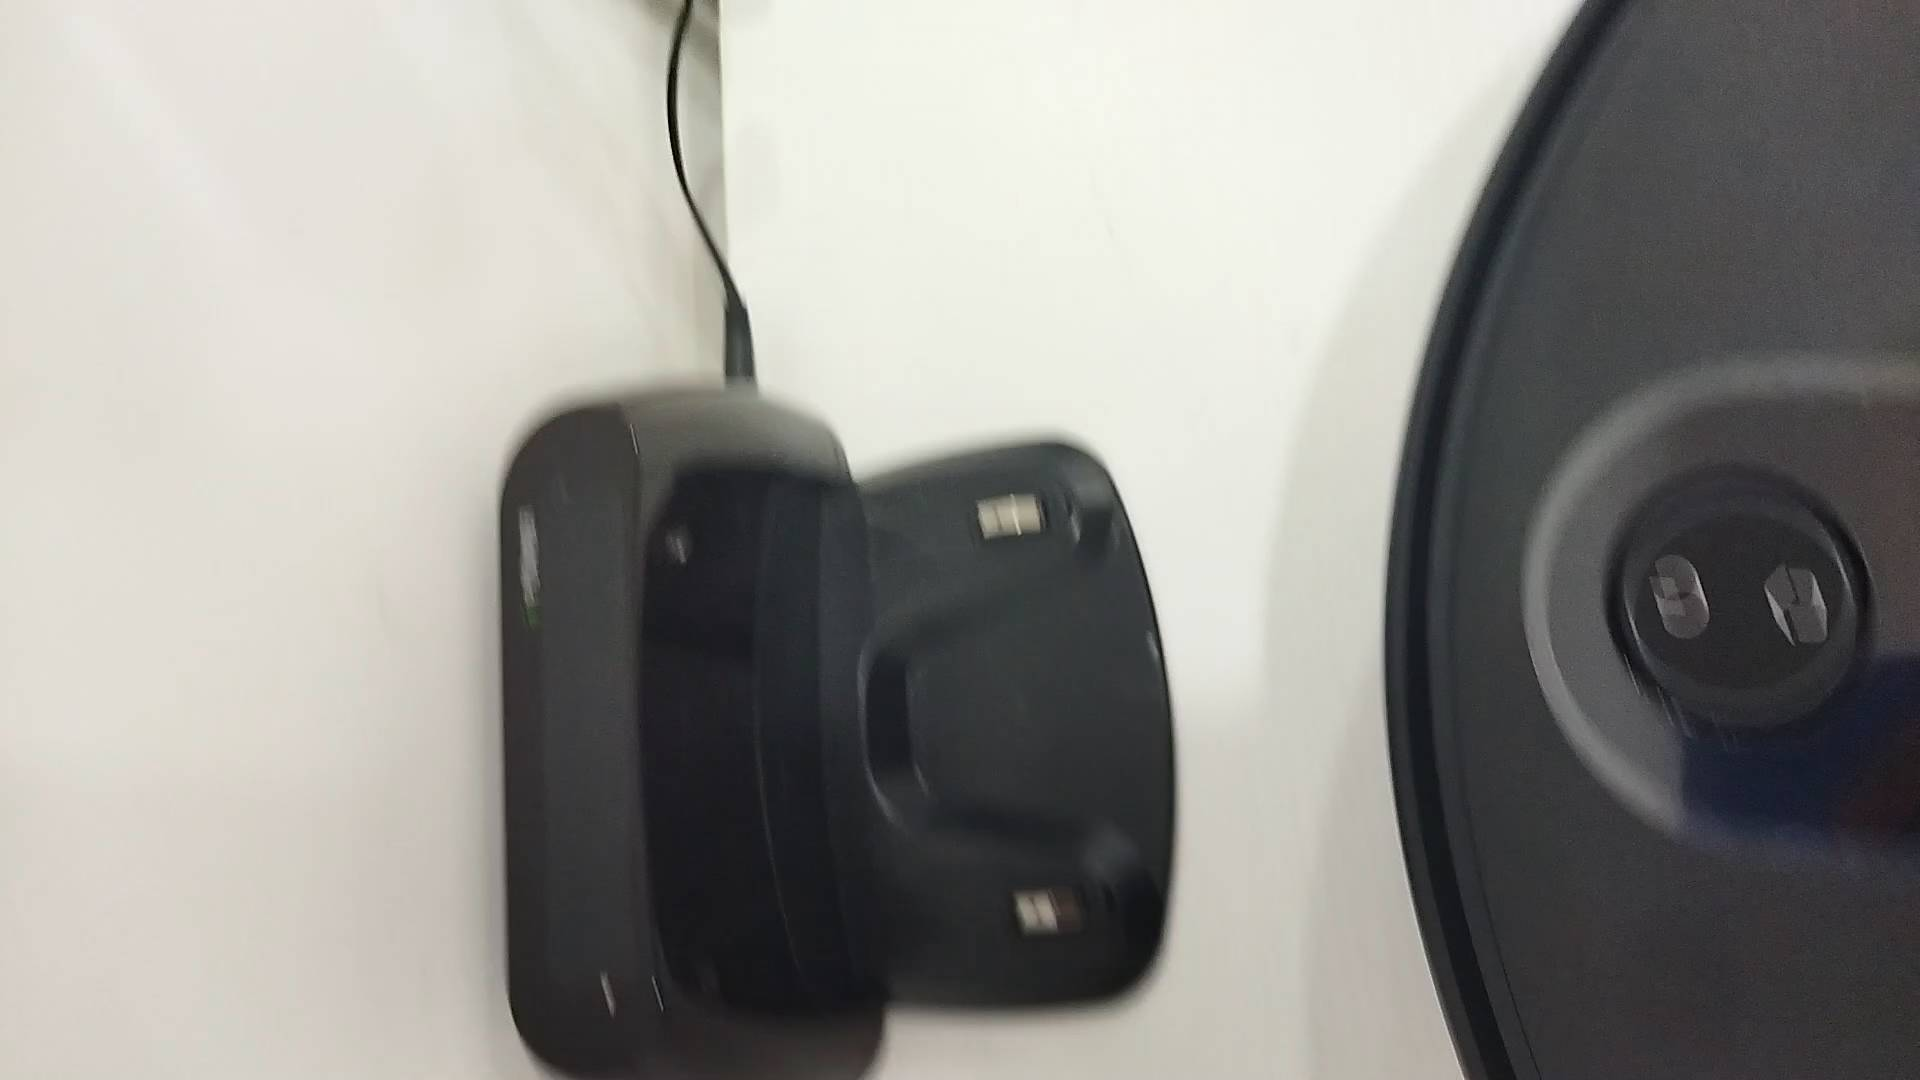recharge seat: (506, 389, 1182, 1080)
